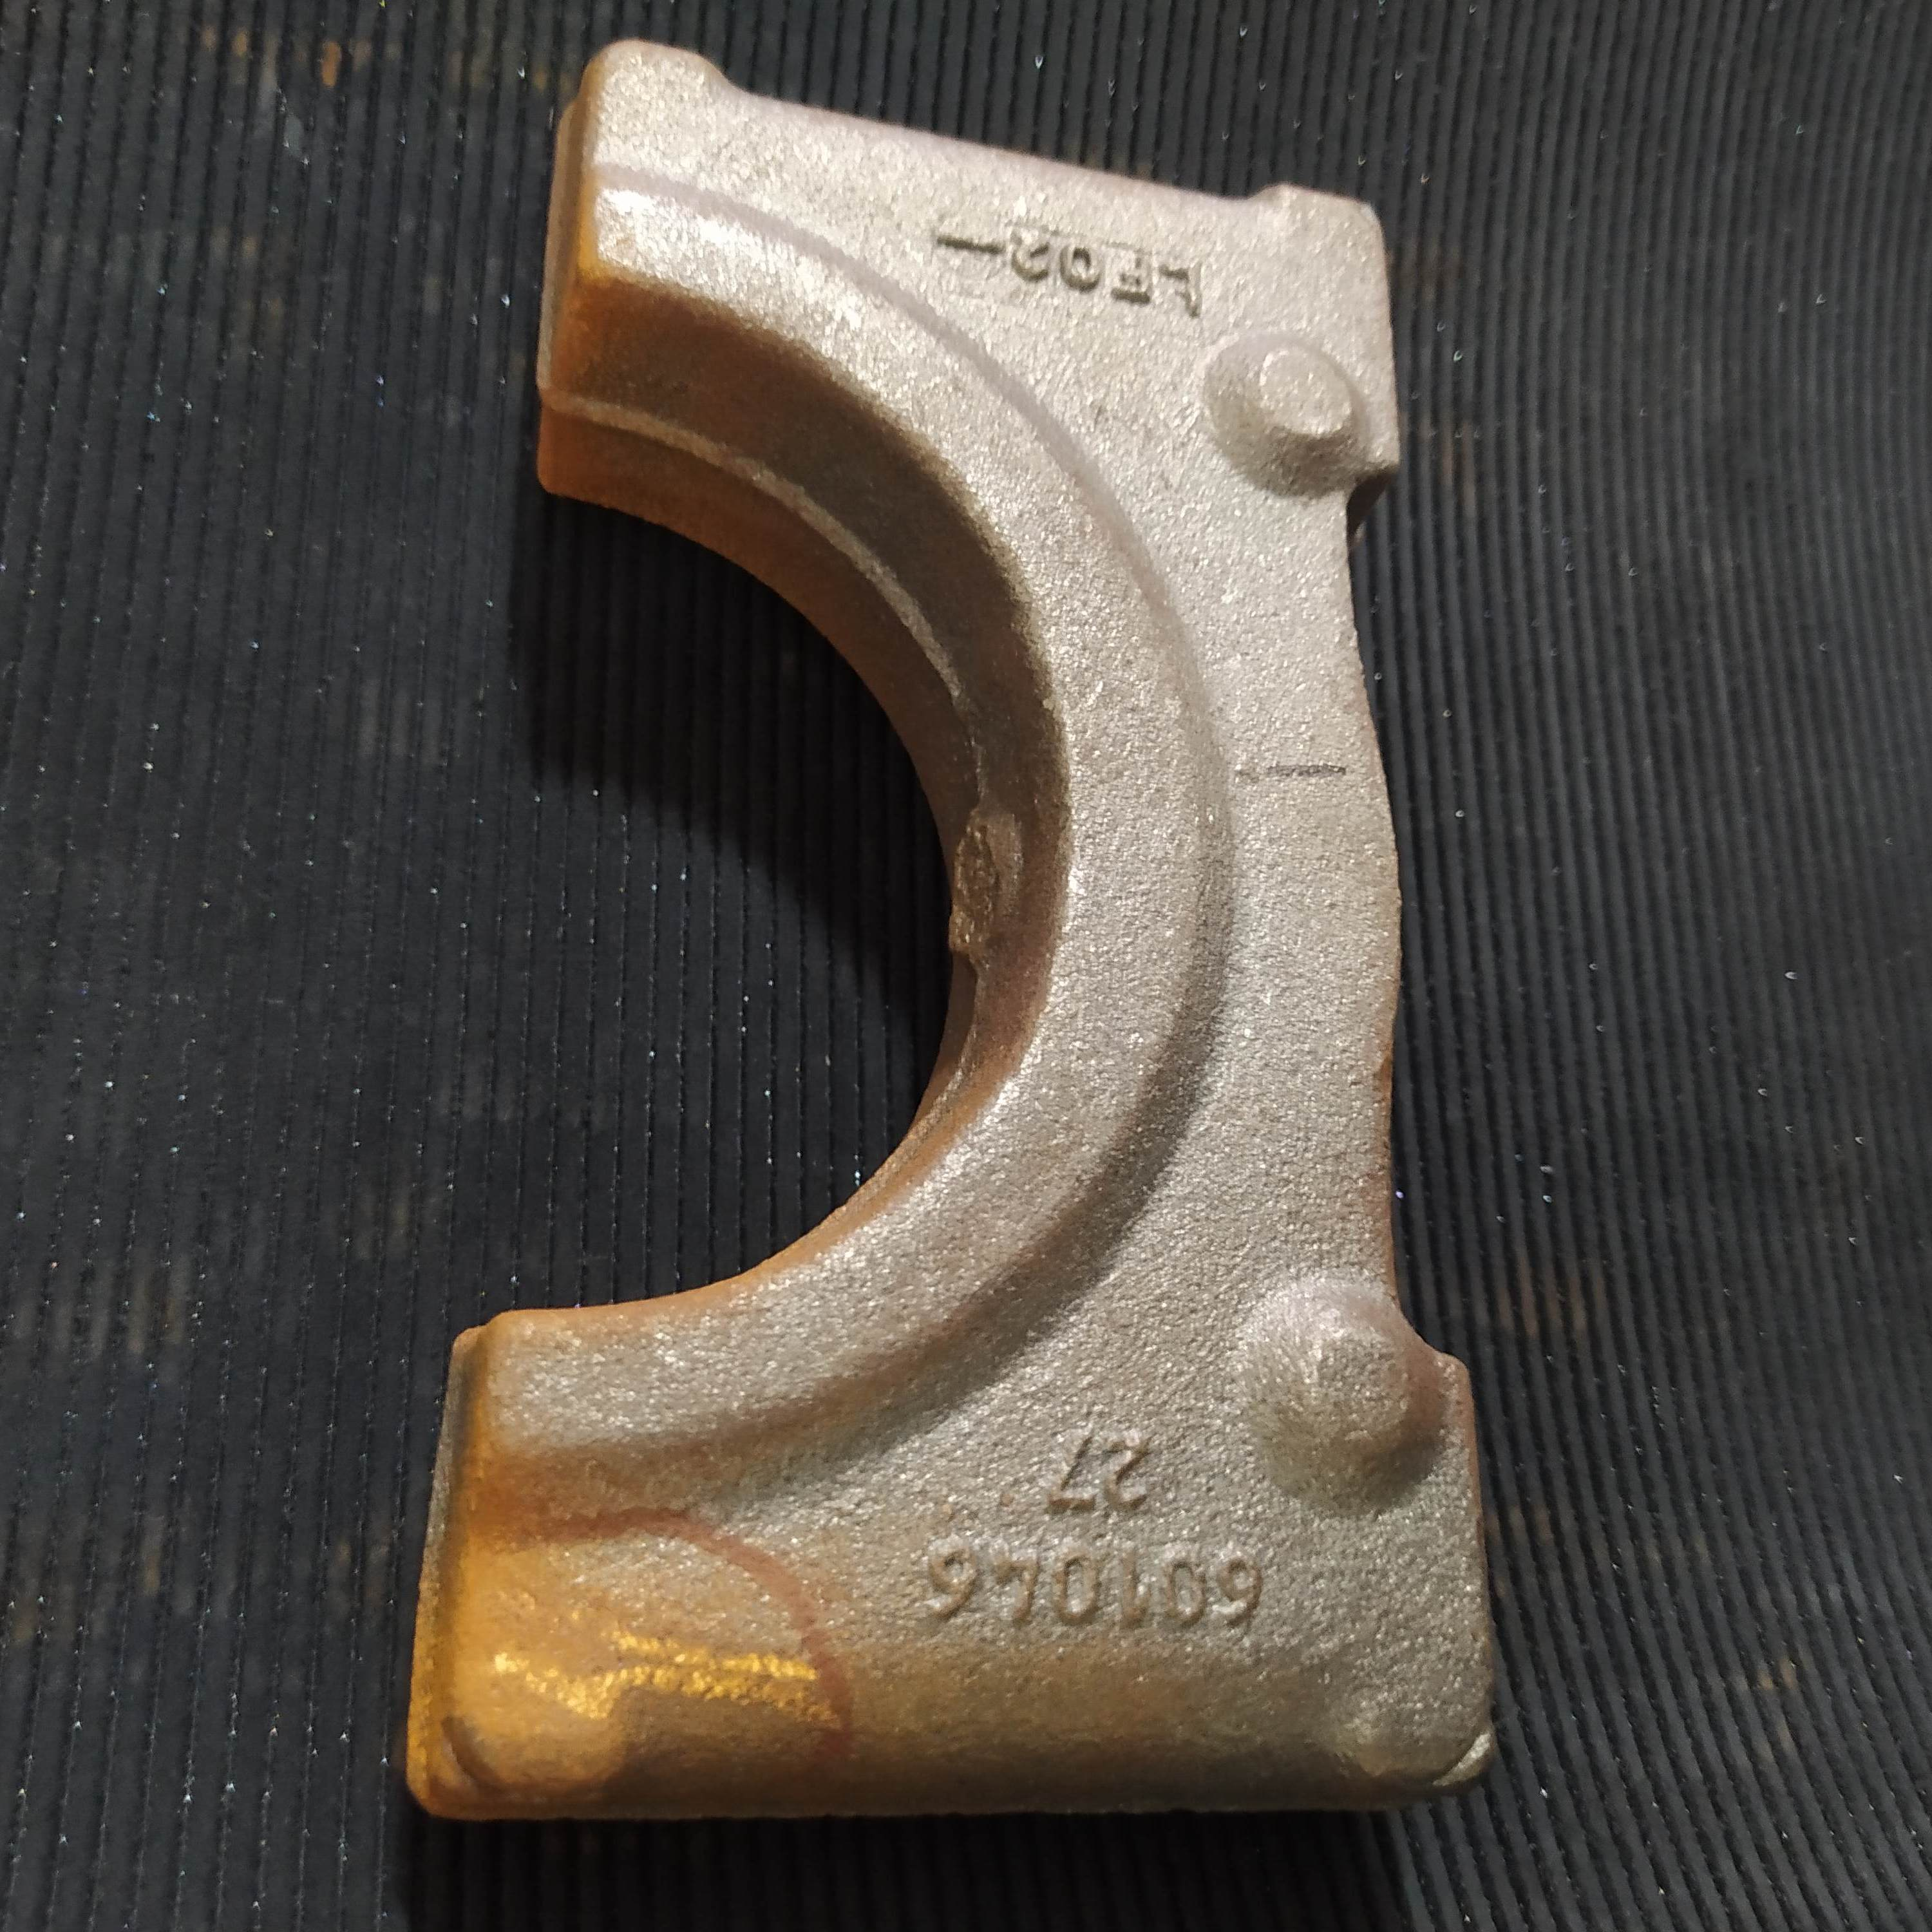rechupe: (425, 1709, 518, 1806), (1421, 1707, 1507, 1799)
